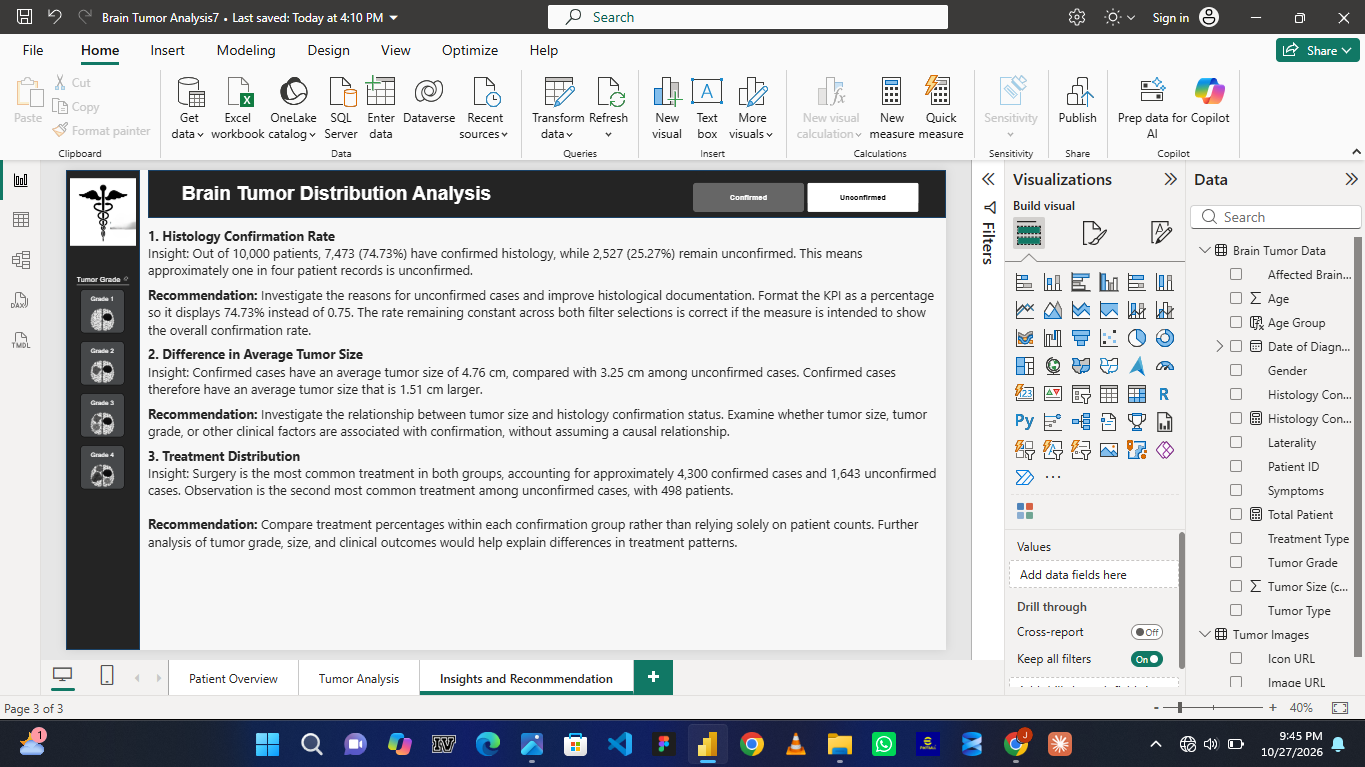

What the dashboard file says about the page in this screenshot:
{"tool":"powerbi","page":{"name":"Insights and Reconmmendation","canvas":[2200,1200],"ordinal":2},"visuals":[{"type":"shape","box":[0,0,185,1200],"z":0},{"type":"ChicletSlicer1448559807354","fields":{"Category":["Tumor Images.Tumor Grade"],"Image":["Tumor Images.Icon URL"]},"box":[10,250,164,598],"z":1000},{"type":"shape","box":[205,0,1995,120],"z":2000},{"type":"textbox","box":[270,30,812.5,57.5],"z":3000},{"type":"advancedSlicerVisual","fields":{"Values":["Brain Tumor Data.Histology Confirmation"]},"box":[1567.5,0,565,105],"z":11000},{"type":"image","box":[10,17.5,165,175],"z":12000},{"type":"textbox","box":[205,142.5,1995,982.5],"z":12001}]}

Visuals, with their boxes on the page's 2200x1200 design canvas (x1, y1, x2, y2). These are canvas units, not pixel positions in the 1365x767 screenshot, which may show the page scaled, cropped or inside an application window:
shape: (x1=0, y1=0, x2=185, y2=1200)
ChicletSlicer1448559807354 - Tumor Images.Tumor Grade x Tumor Images.Icon URL: (x1=10, y1=250, x2=174, y2=848)
shape: (x1=205, y1=0, x2=2200, y2=120)
textbox: (x1=270, y1=30, x2=1082, y2=88)
advancedSlicerVisual - Brain Tumor Data.Histology Confirmation: (x1=1568, y1=0, x2=2132, y2=105)
image: (x1=10, y1=18, x2=175, y2=192)
textbox: (x1=205, y1=142, x2=2200, y2=1125)
